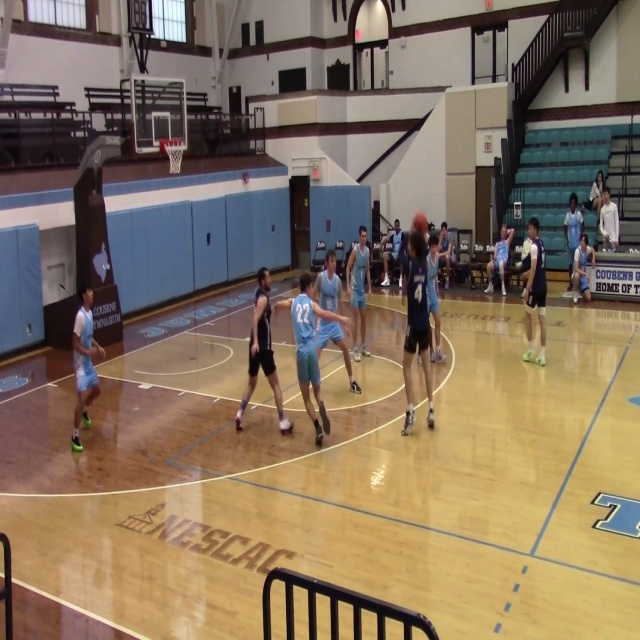Basketball: (413, 212, 428, 230), (90, 346, 105, 361), (514, 261, 522, 269)
